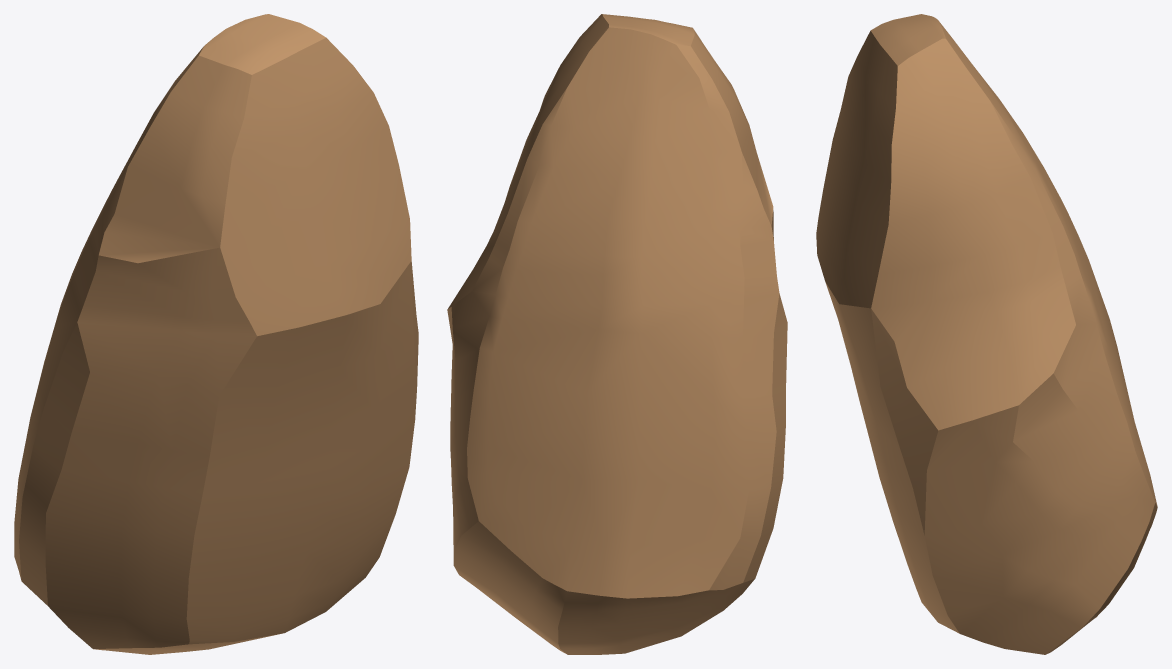
The model's file is rock1Temp.fbx.
3 views of the same model, side by side, from view 1: azimuth 30°, elevation 25°; view 2: azimuth 150°, elevation 25°; view 3: azimuth 270°, elevation 25° (orthographic). The views are drawn at different scales.
Parts seen in each view (by area): view 1: rock1_low; view 2: rock1_low; view 3: rock1_low.
Part boxes in pixels (x1,y1,x2,y2): rock1_low: (14, 14, 418, 654); rock1_low: (447, 14, 787, 654); rock1_low: (816, 14, 1157, 654).
Size of the model in its own units: 1.88 by 3.27 by 1.65.
